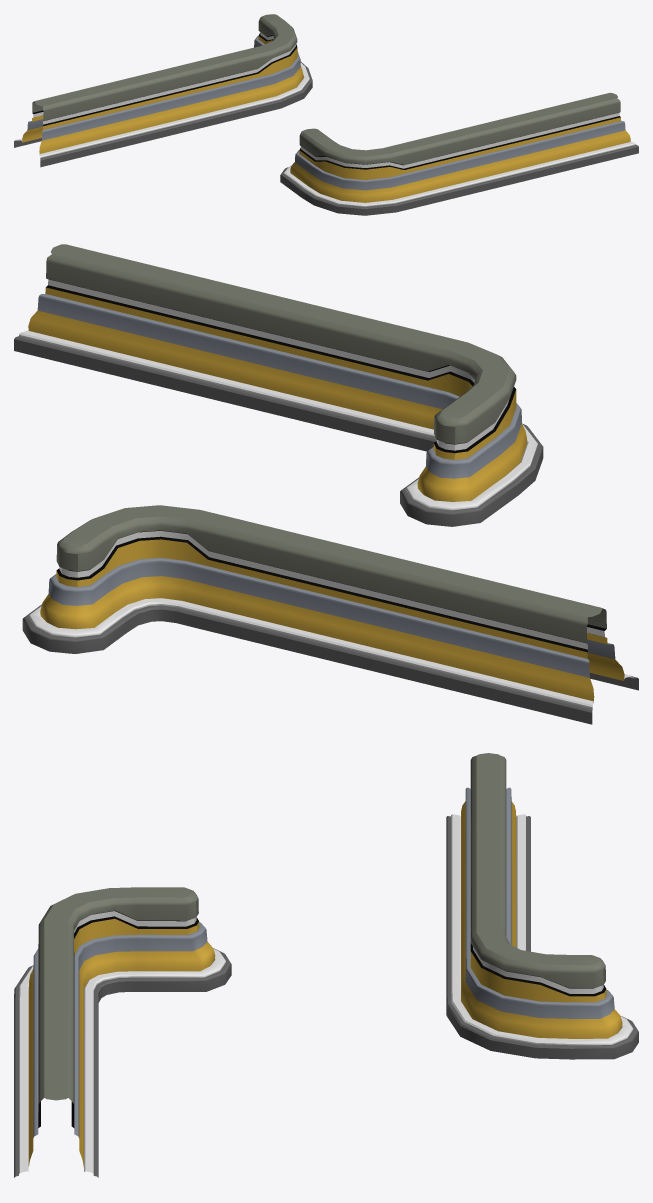
The model's file is Level5_Small_walls.fbx.
3 renders of one model, top to bottom at view 1: azimuth 30°, elevation 25°; view 2: azimuth 150°, elevation 25°; view 3: azimuth 270°, elevation 25°, orthographic. The views are drawn at different scales.
Parts seen in each view (by area): view 1: Small_wall_L2, Small_wall_L; view 2: Small_wall_L, Small_wall_L2; view 3: Small_wall_L, Small_wall_L2.
Boxes of the visible parts, bbox=[...] form: Small_wall_L2: bbox=[280, 92, 638, 215]; Small_wall_L: bbox=[14, 14, 312, 167]; Small_wall_L: bbox=[22, 505, 638, 724]; Small_wall_L2: bbox=[14, 244, 543, 526]; Small_wall_L: bbox=[446, 753, 638, 1059]; Small_wall_L2: bbox=[14, 887, 231, 1177].
Size of the model in its own units: 348 by 37.08 by 254.
